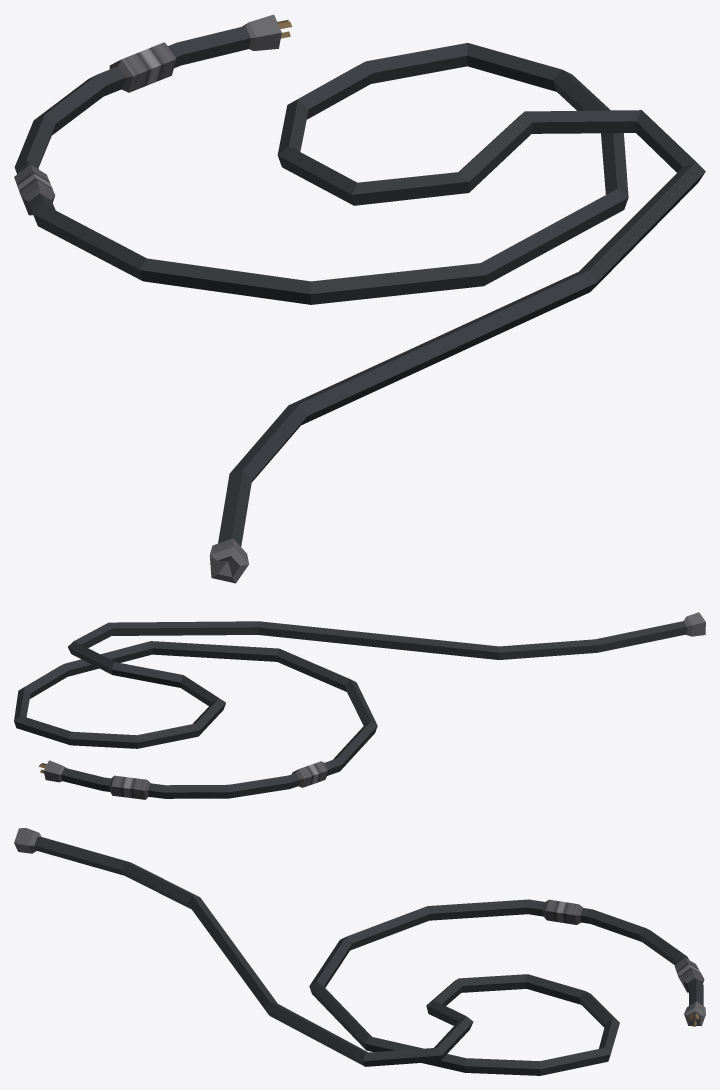
Rendered from SM_Prop_Wires_12.fbx.
3 renders of one model, top to bottom at view 1: azimuth 30°, elevation 25°; view 2: azimuth 150°, elevation 25°; view 3: azimuth 270°, elevation 25°, orthographic. The views are drawn at different scales.
Parts seen in each view (by area): view 1: SM_Prop_Wires_12; view 2: SM_Prop_Wires_12; view 3: SM_Prop_Wires_12.
Part boxes in pixels (box(x1,y1,x2,y2)): SM_Prop_Wires_12: box(14, 14, 705, 583); SM_Prop_Wires_12: box(14, 612, 705, 799); SM_Prop_Wires_12: box(14, 828, 705, 1075).
Size of the model in its own units: 147 by 9.8 by 182.
